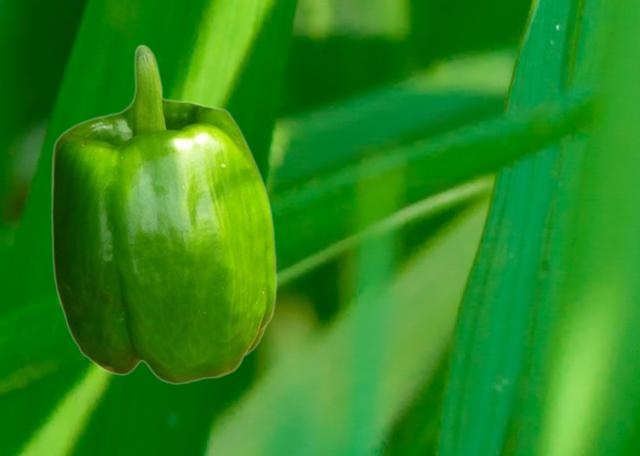bell_pepper: (50, 44, 276, 384)
